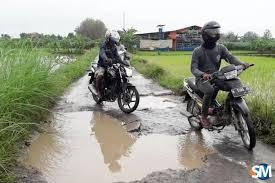Pothole: (23, 106, 231, 182), (108, 88, 192, 118)
